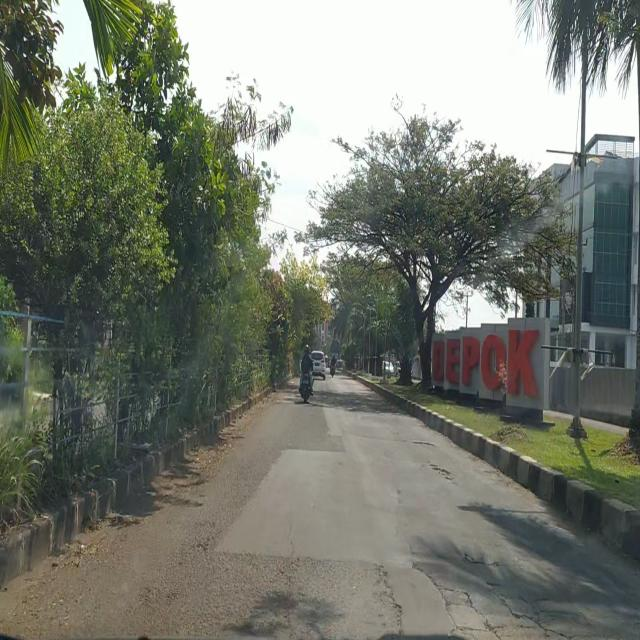Drain Hole: (423, 560, 567, 640)
